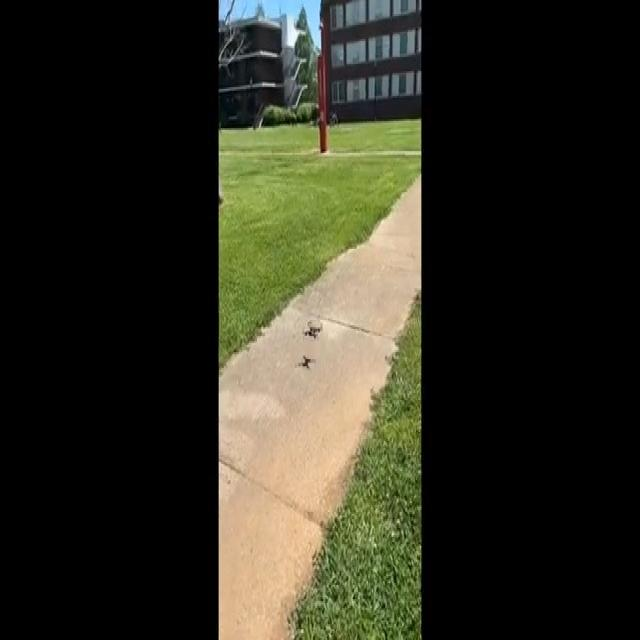drone: (299, 310, 327, 349)
